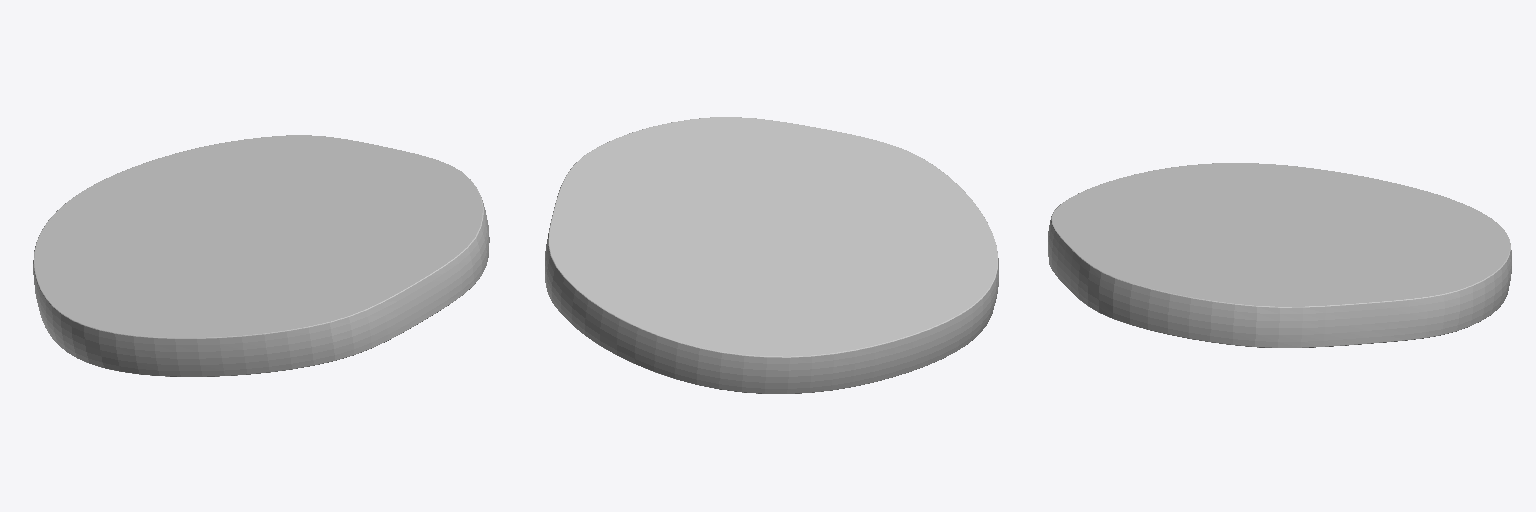
Rendered from burger_cucumber.obj.
3 renders of one model, left to right at view 1: azimuth 30°, elevation 25°; view 2: azimuth 150°, elevation 25°; view 3: azimuth 270°, elevation 25°, orthographic.
Visible parts, largest first — view 1: Cylinder.007; view 2: Cylinder.007; view 3: Cylinder.007.
Boxes of the visible parts, x1,y1,x2,y2 form: Cylinder.007: [33, 135, 489, 376]; Cylinder.007: [545, 117, 998, 393]; Cylinder.007: [1048, 163, 1511, 347].
Bounding box in the file's own units: 1.2 × 0.2688 × 1.21.